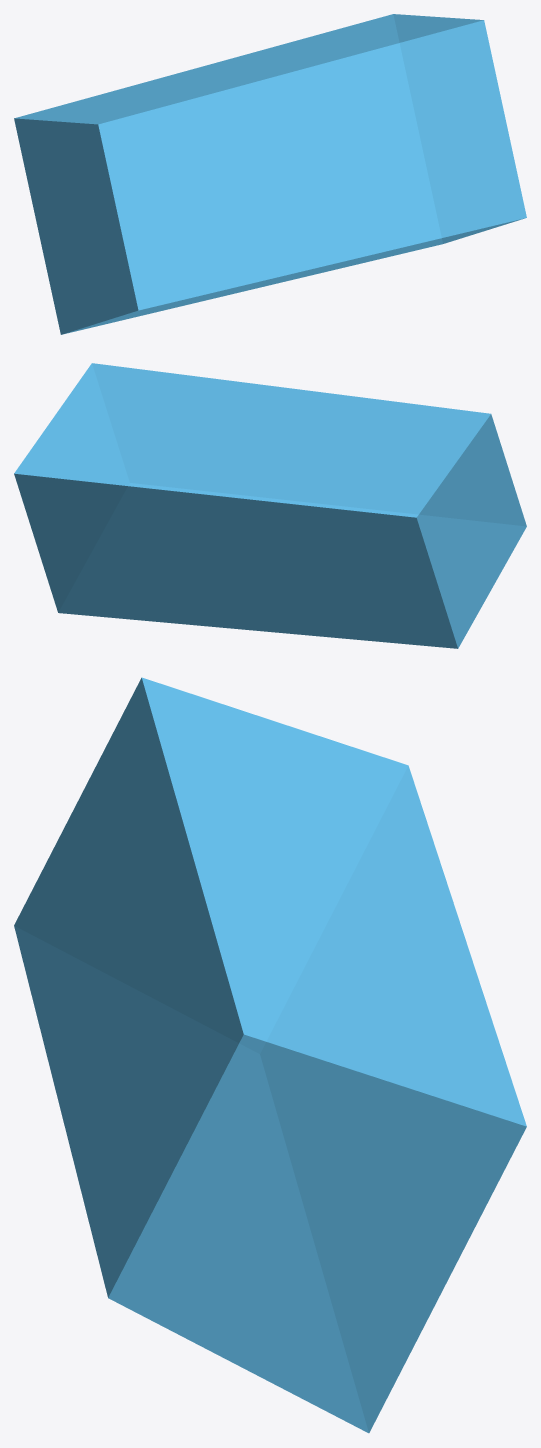
The model's file is Event_421556567_HErechit_60.fbx.
3 renders of one model, top to bottom at view 1: azimuth 30°, elevation 25°; view 2: azimuth 150°, elevation 25°; view 3: azimuth 270°, elevation 25°, orthographic. The views are drawn at different scales.
Visible parts, largest first — view 1: Model; view 2: Model; view 3: Model.
Boxes of the visible parts, box(x1,y1,x2,y2) form: Model: box(14, 14, 526, 334); Model: box(14, 363, 526, 648); Model: box(14, 677, 526, 1433).
Size of the model in its own units: 0.6669 by 0.4173 by 0.4471.
